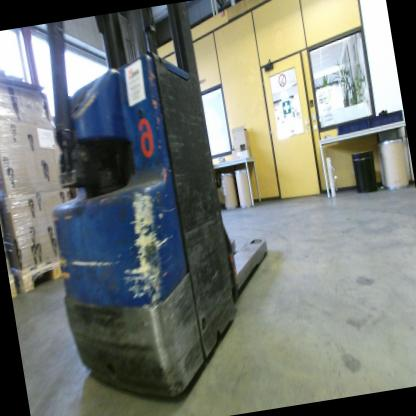pallet: (12, 247, 72, 303), (8, 263, 20, 304)
pallet_truck: (13, 0, 318, 414)
